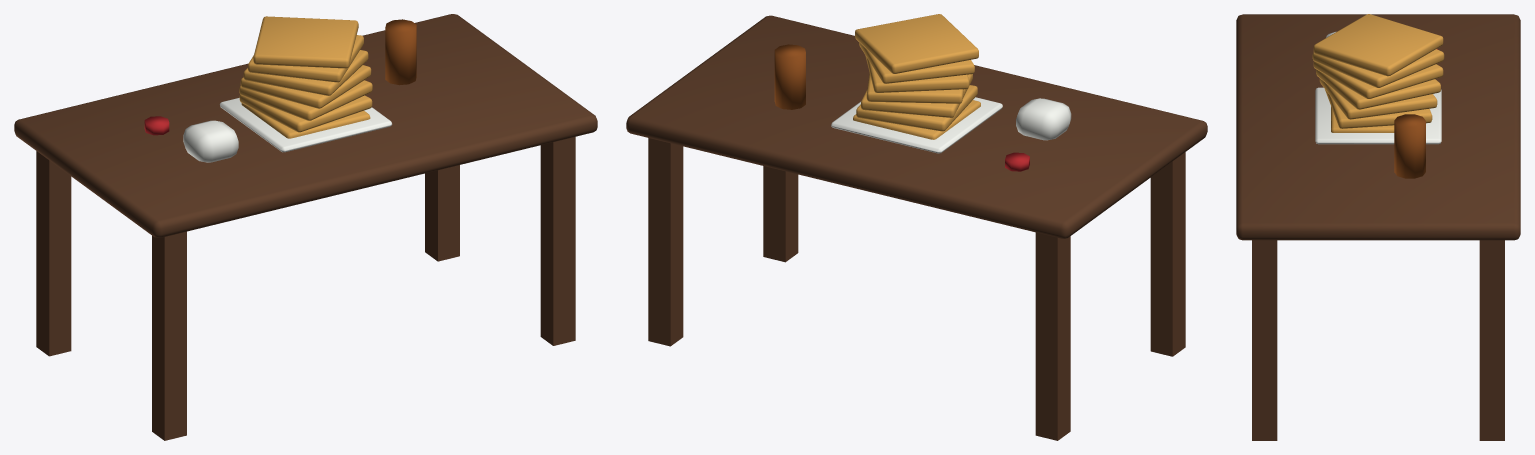
Rendered from waffle_table.gltf.
The picture shows the model from 3 angles, left to right: view 1: azimuth 30°, elevation 25°; view 2: azimuth 150°, elevation 25°; view 3: azimuth 270°, elevation 25°; orthographic projection.
Visible parts, largest first — view 1: waffle_table_mesh; view 2: waffle_table_mesh; view 3: waffle_table_mesh.
Boxes of the visible parts, x1,y1,x2,y2 form: waffle_table_mesh: [14, 14, 597, 440]; waffle_table_mesh: [626, 14, 1207, 440]; waffle_table_mesh: [1236, 14, 1520, 440].
Size of the model in its own units: 1.6 by 1.05 by 0.9.
